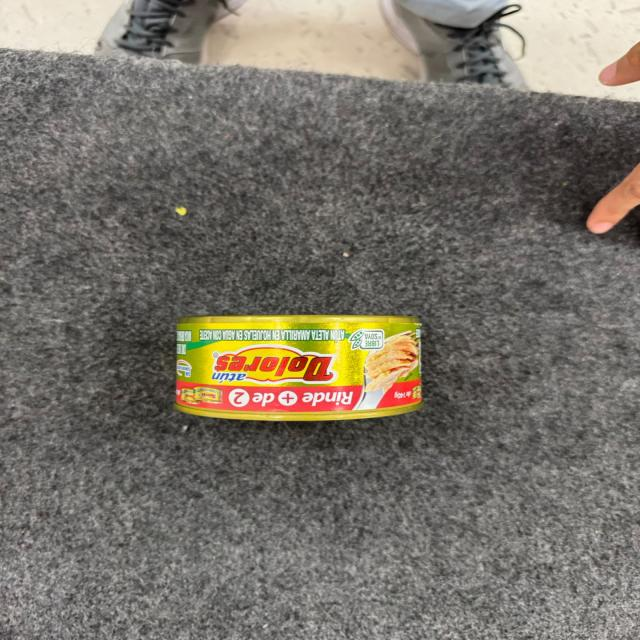Atun Dolores aceite 295gr lata: (166, 307, 426, 420)
